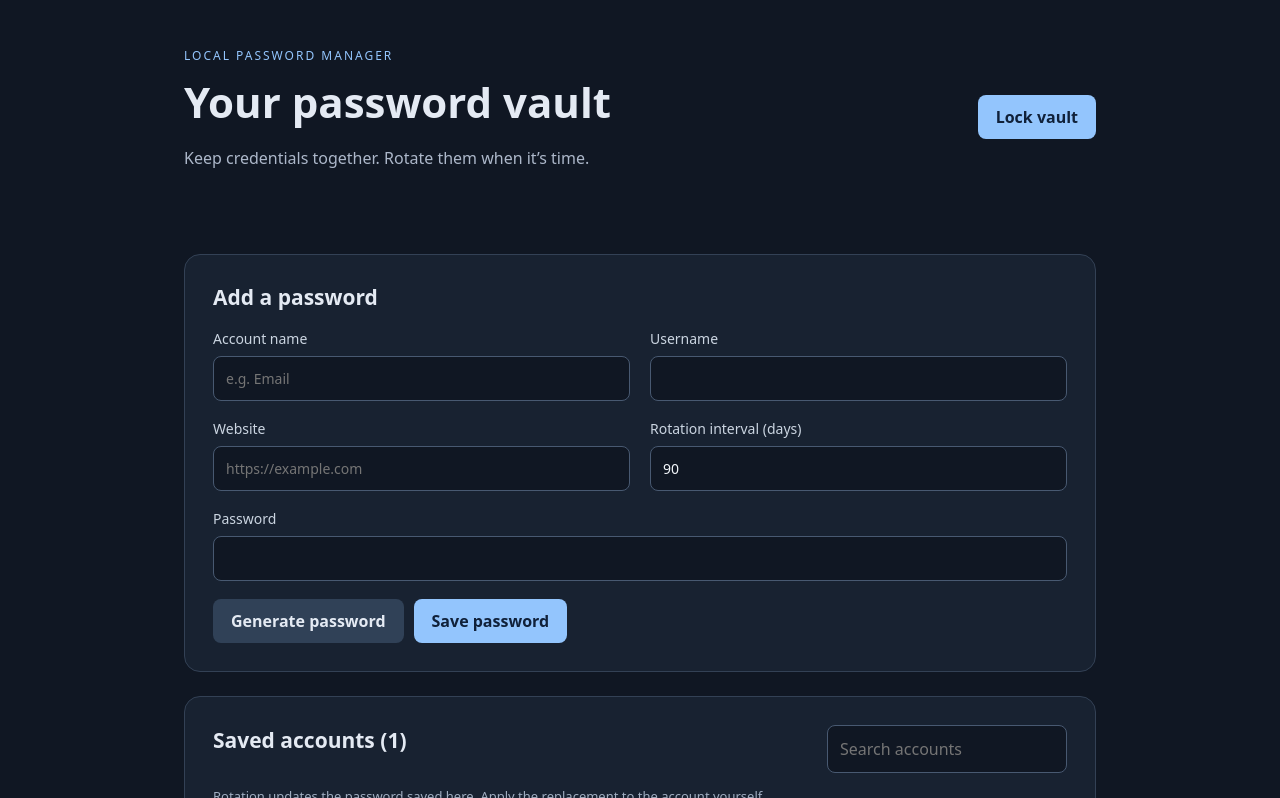
Test case: vault workflows › generates and saves an account, converts the rotation interval, and searches metadata
expect the heading "Add a password" is shown: met, box [213,283,378,311]
Type "Work" into the field labelled "Account name" at (422, 378), box [213,356,630,401]
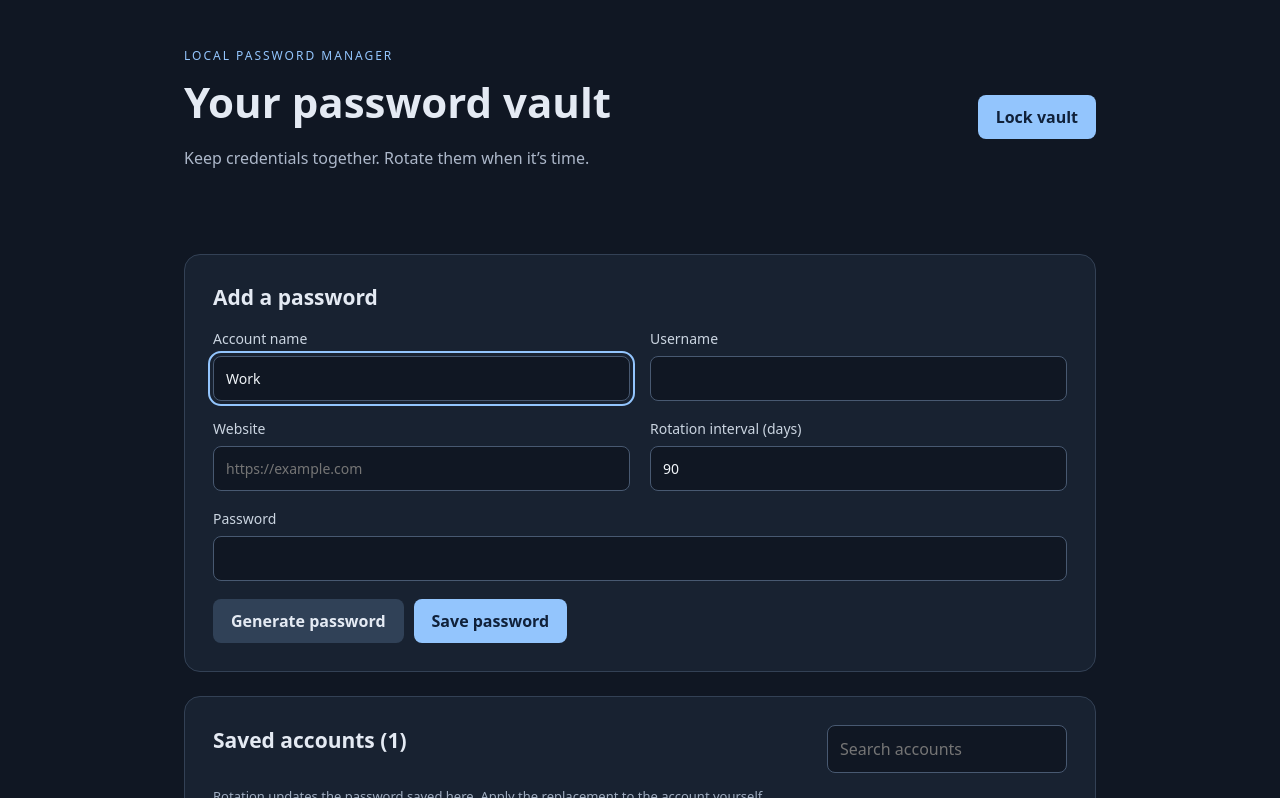
Type "work-user" into the field labelled "Username" at (858, 378), box [650,356,1067,401]
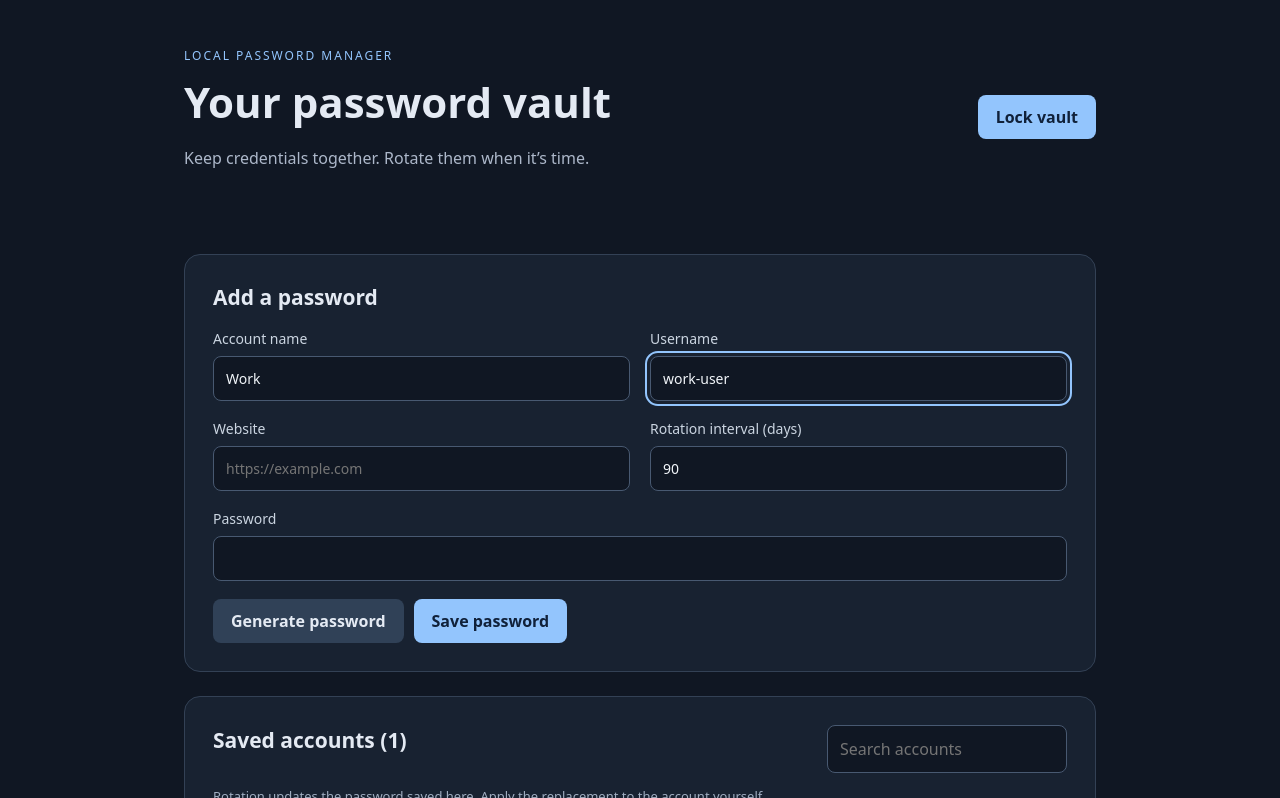
Click the button "Generate password" at (308, 621), box [213,599,404,643]
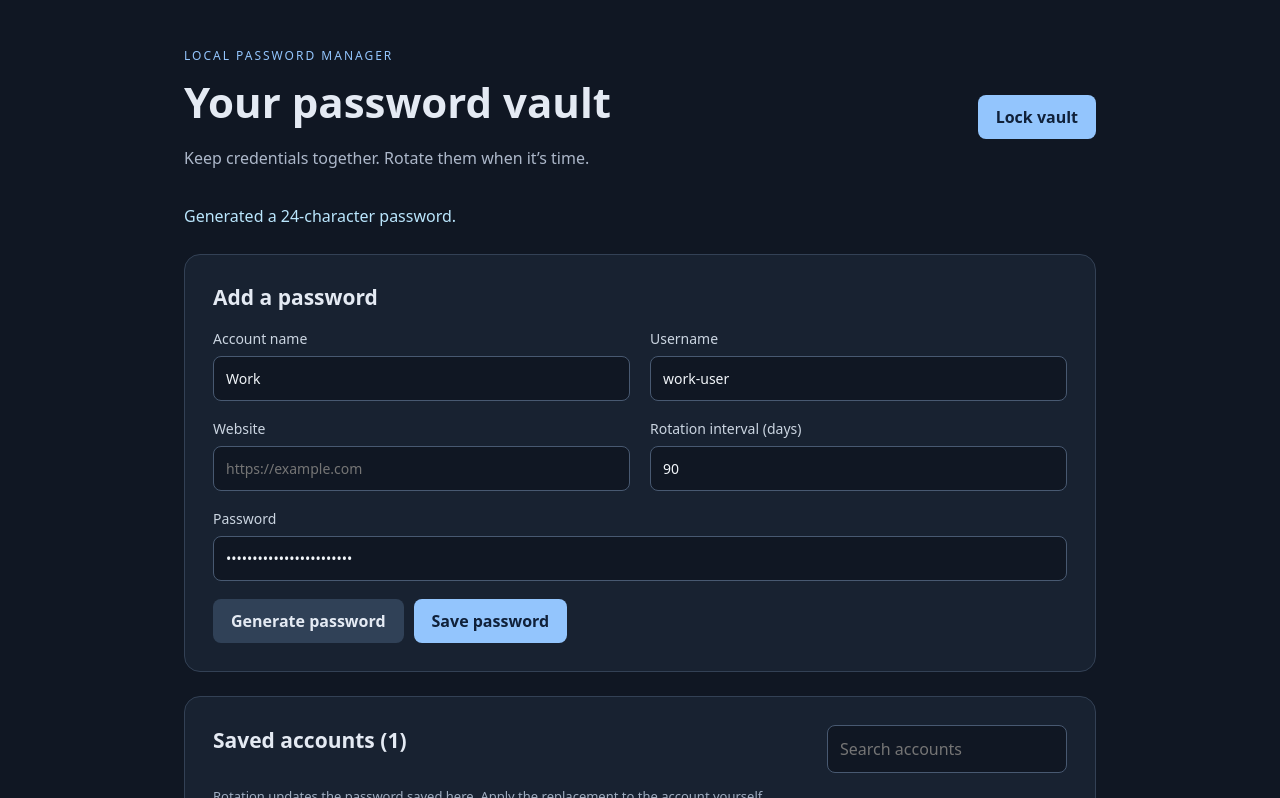
Click the button "Save password" at (490, 621), box [414,599,567,643]
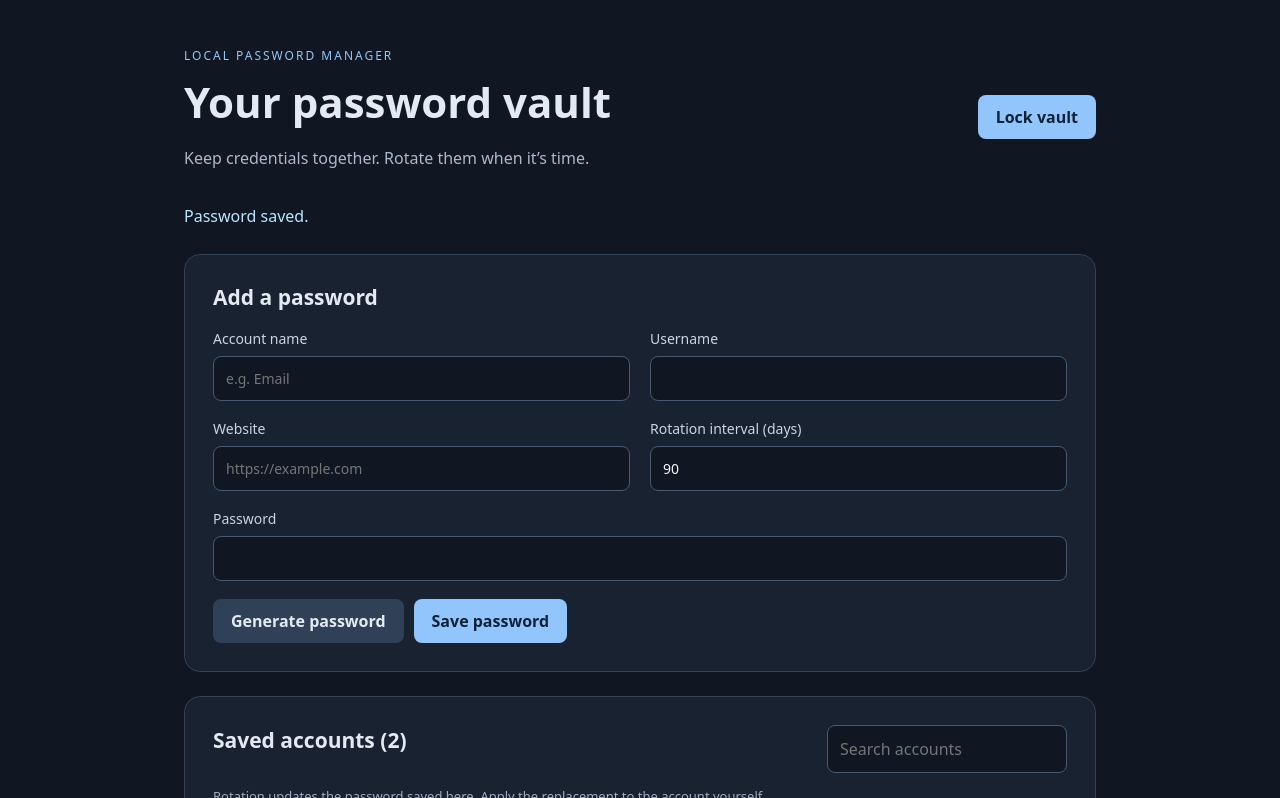
expect the password field labelled "Password" is empty: met, box [213,536,1067,581]
Type "EXAMPLE.COM" into the search field at (947, 749), box [827,725,1067,773]
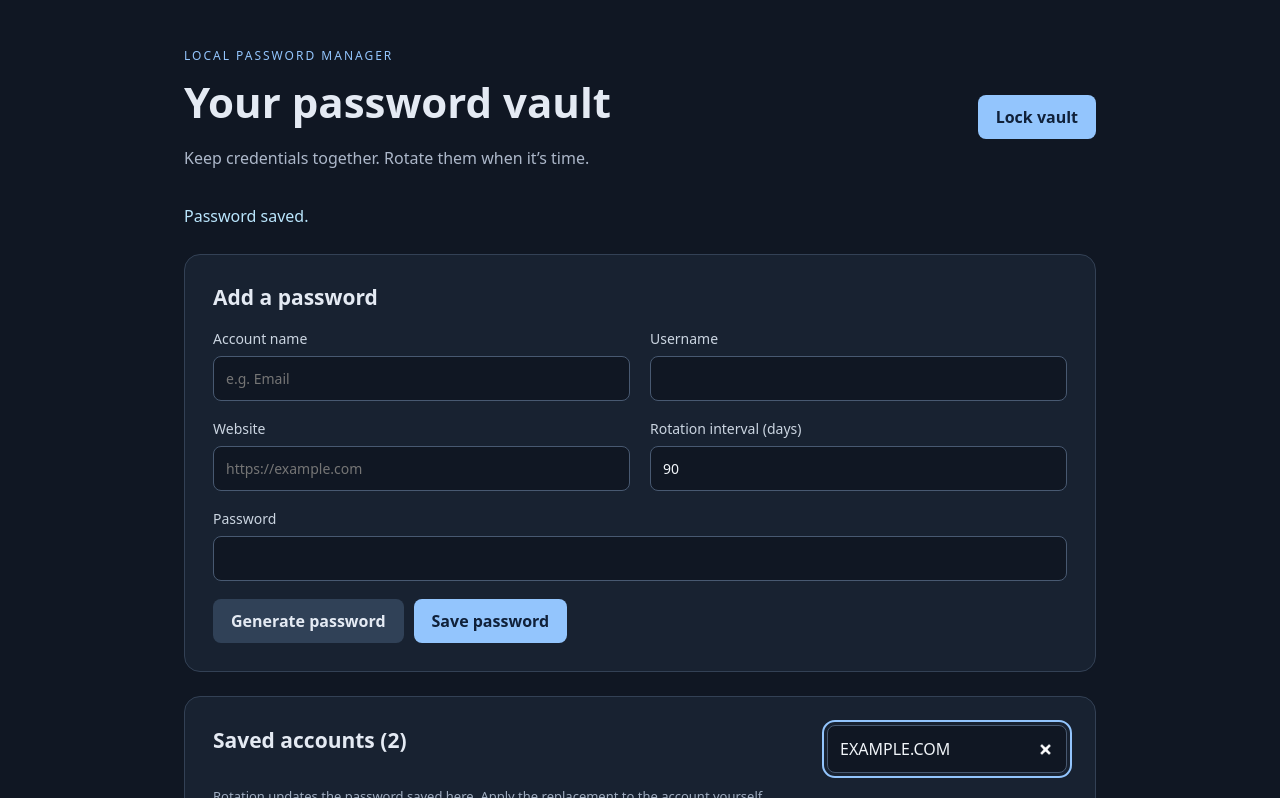
Replace the text in the search field with "missing" at (947, 749), box [827,725,1067,773]
(page scrolled)
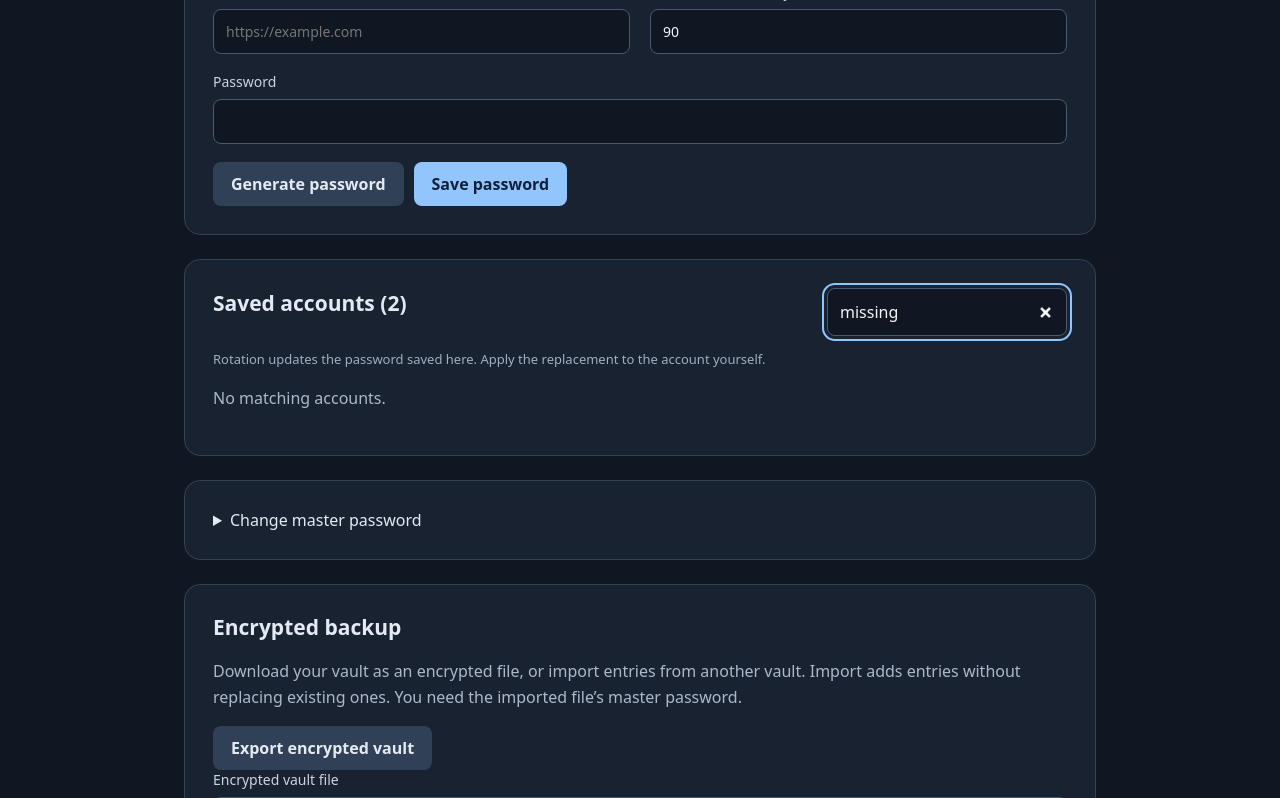
expect the text "No matching accounts." is shown: met, box [213,387,386,409]
